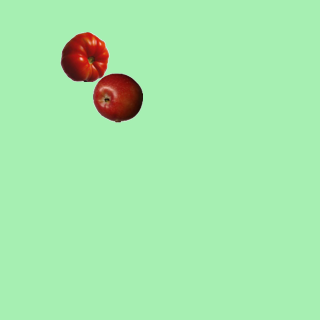Apple Braeburn: (92, 72, 142, 122)
Tomato 3: (59, 31, 109, 81)
